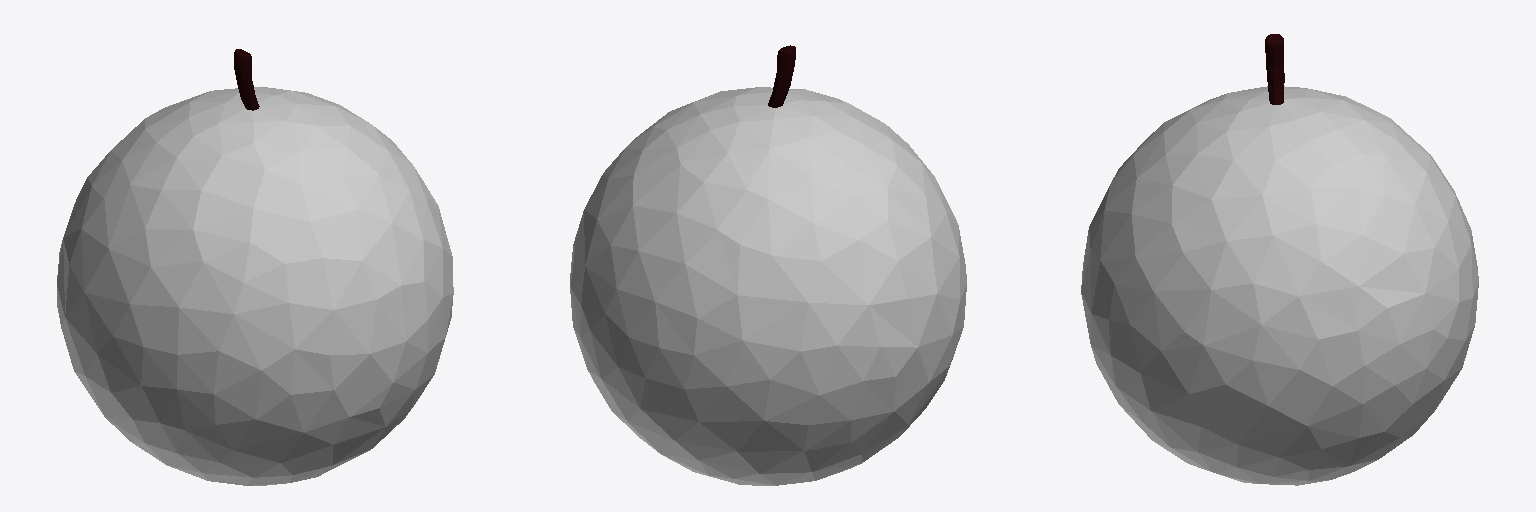
Rendered from Pear.obj.
The picture shows the model from 3 angles: view 1: azimuth 30°, elevation 25°; view 2: azimuth 150°, elevation 25°; view 3: azimuth 270°, elevation 25°; orthographic projection.
Visible parts, largest first — view 1: mi.002, heta.002; view 2: mi.002, heta.002; view 3: mi.002, heta.002.
Boxes of the visible parts, <box> form: mi.002: <box>57,87,453,485</box>; heta.002: <box>234,49,259,110</box>; mi.002: <box>570,87,966,485</box>; heta.002: <box>768,45,795,107</box>; mi.002: <box>1081,86,1478,485</box>; heta.002: <box>1265,34,1284,104</box>.
Bounding box in the file's own units: 0.7955 × 0.9398 × 0.7982.